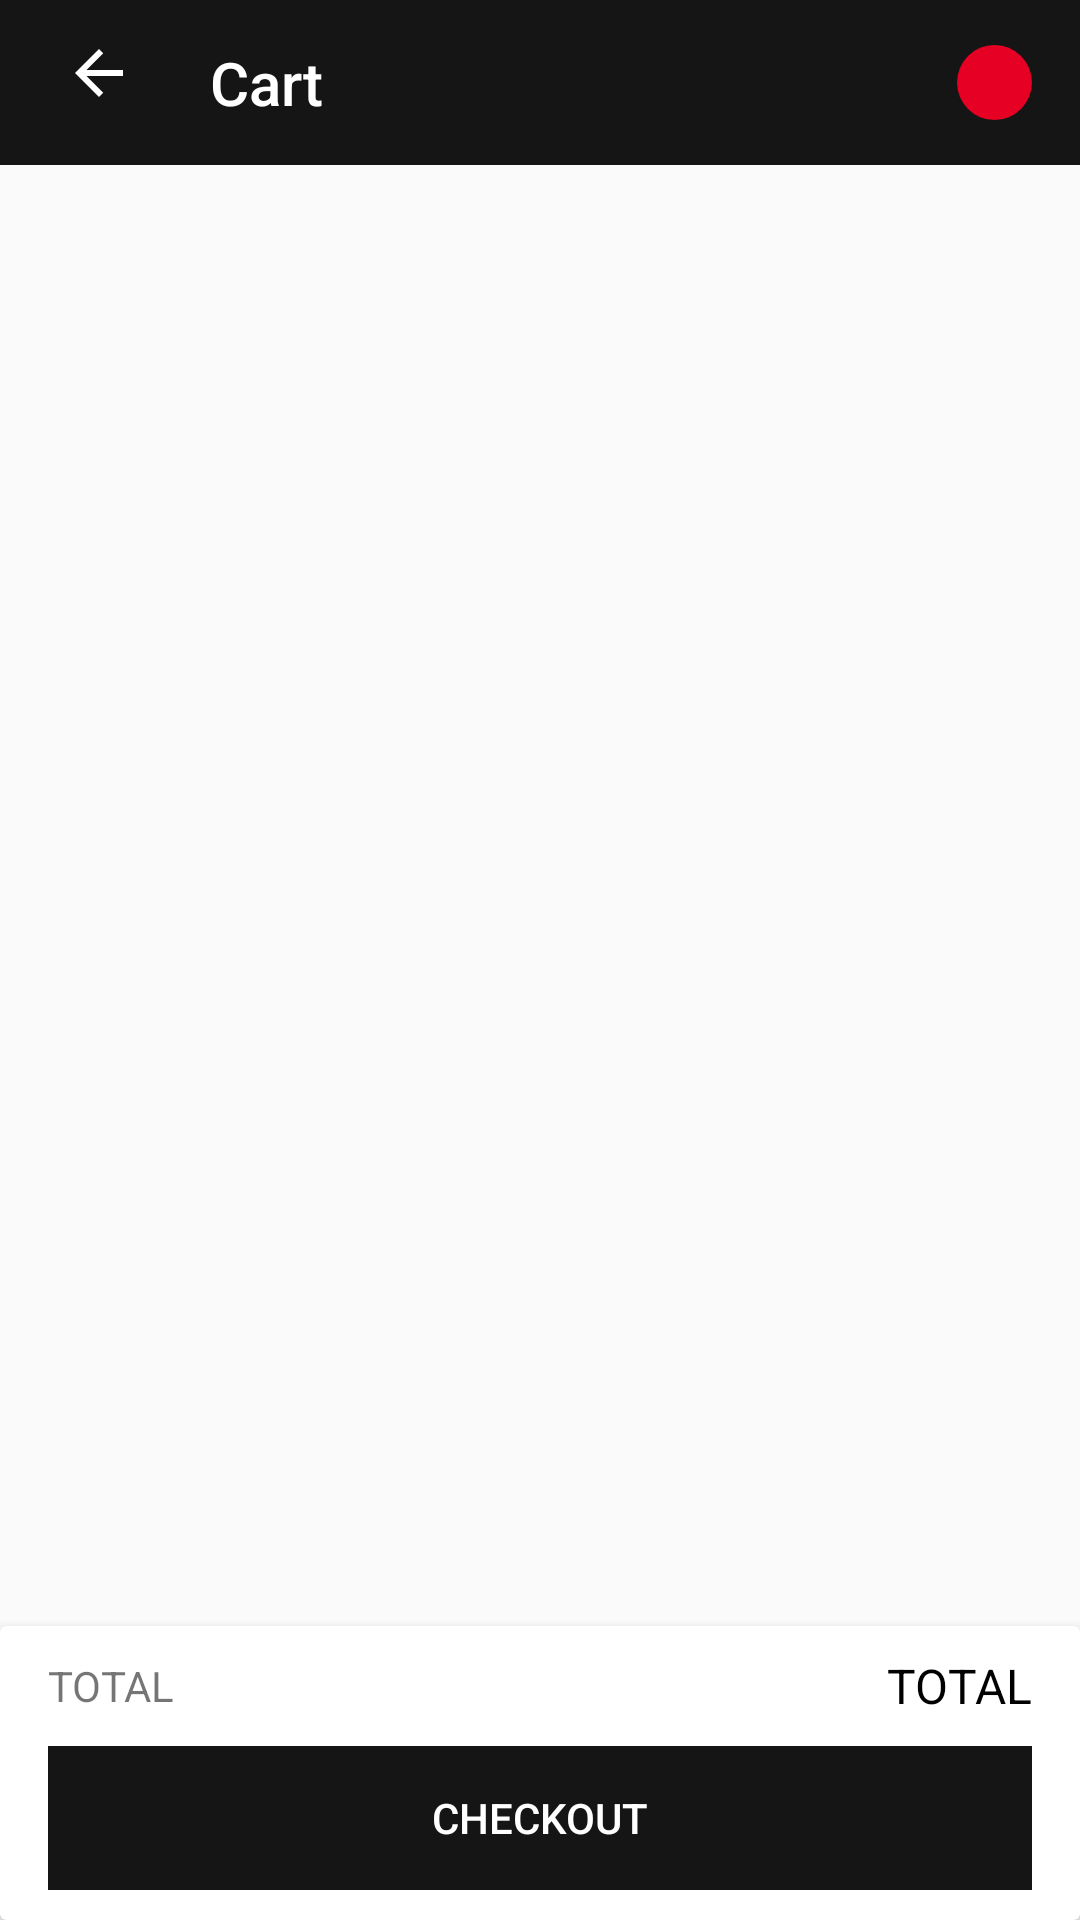

Icons on this 1080 × 1920 Android screen, each with the point to tap as point (x, y):
arrow back: point (99, 73)
